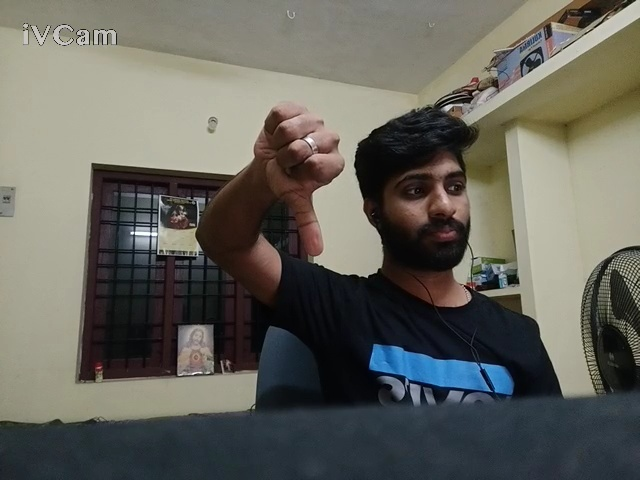No: (168, 83, 372, 287)
